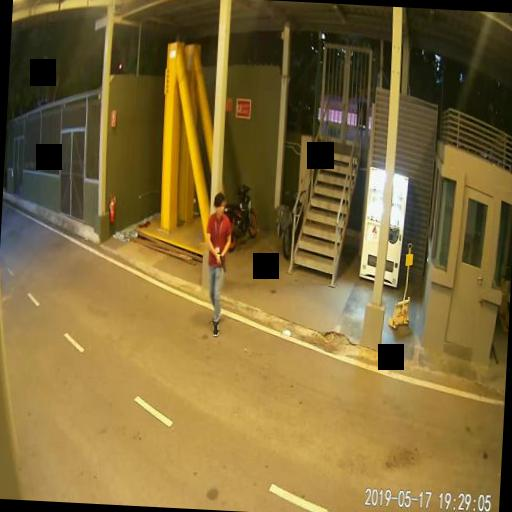Handgun: (215, 251, 225, 271)
